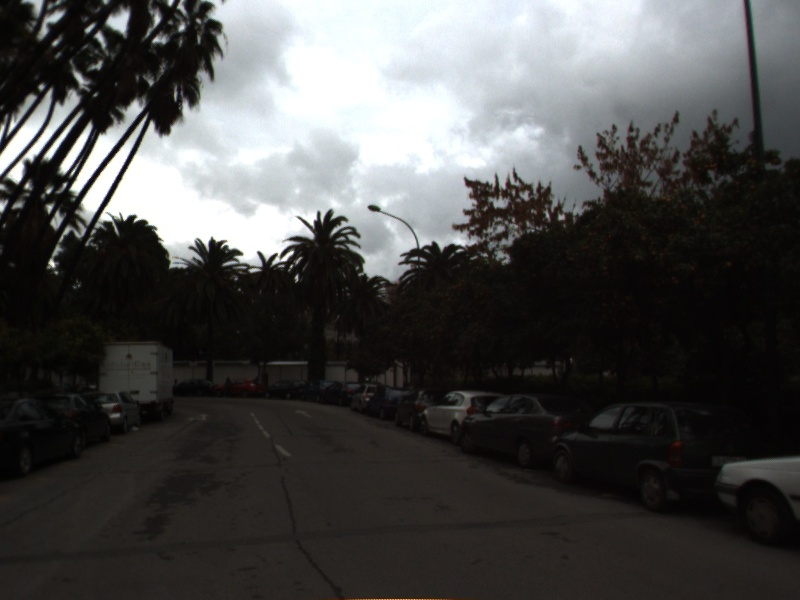STRAIGHT: (293, 407, 315, 420)
STRAIGHT_LEFT: (185, 412, 213, 423)
